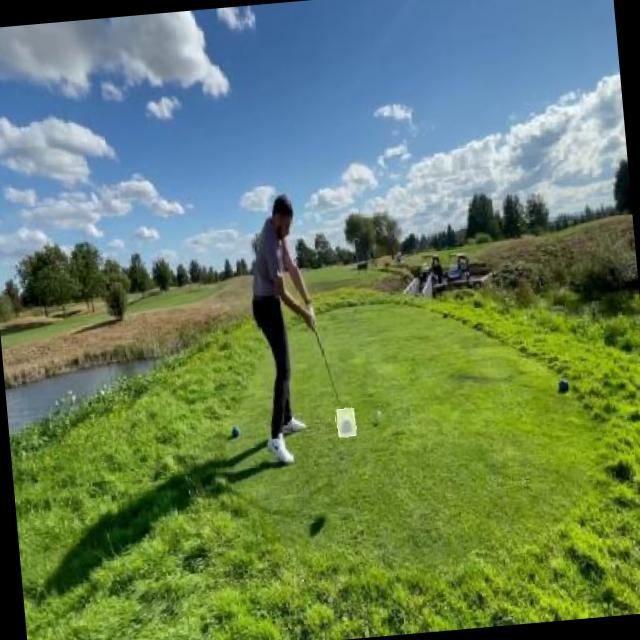club head: (336, 407, 356, 437)
